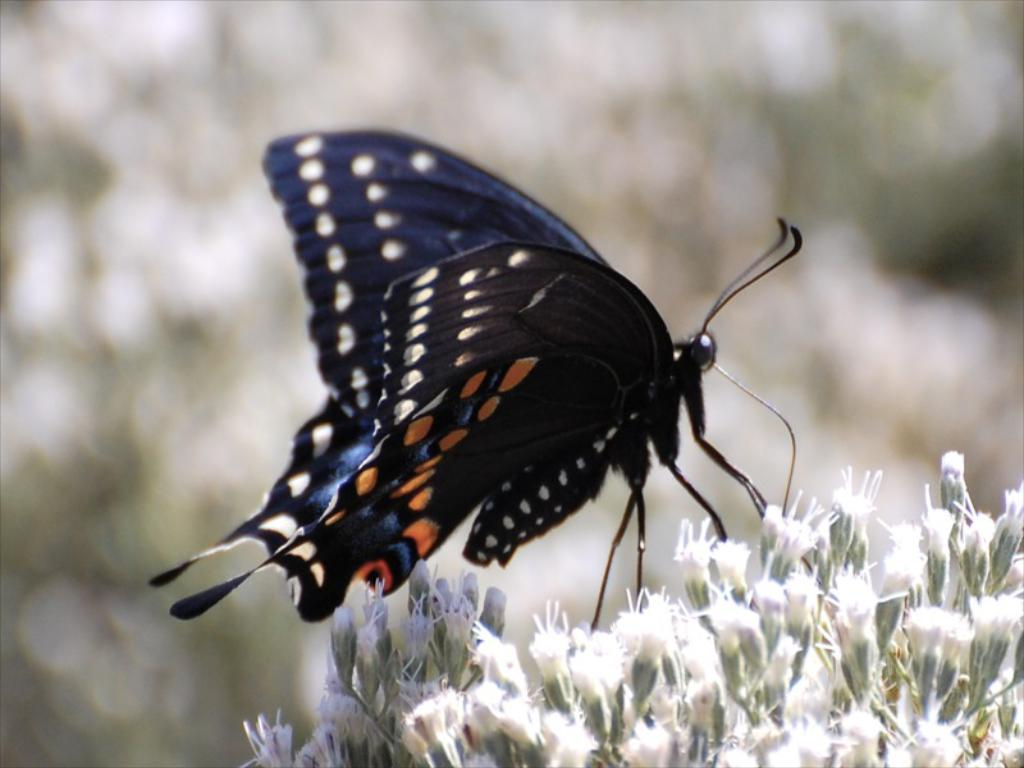Butterfly: (221, 89, 761, 620)
